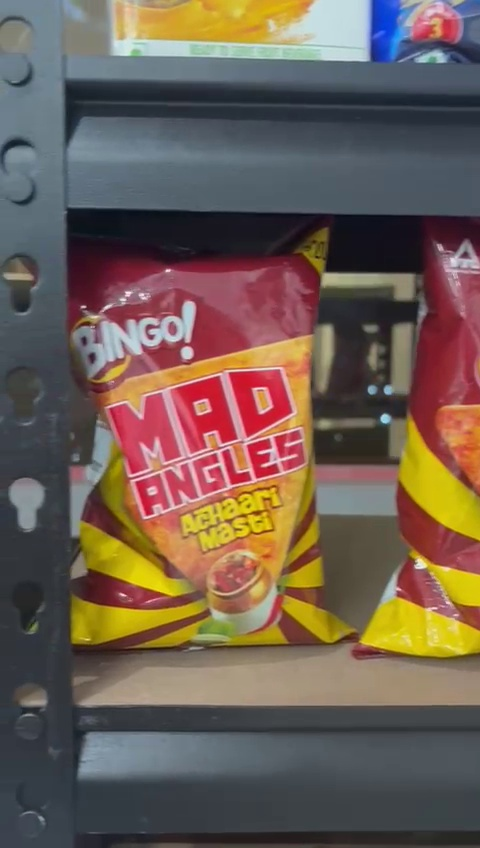Bingo Mad Angles: (65, 250, 336, 656)
